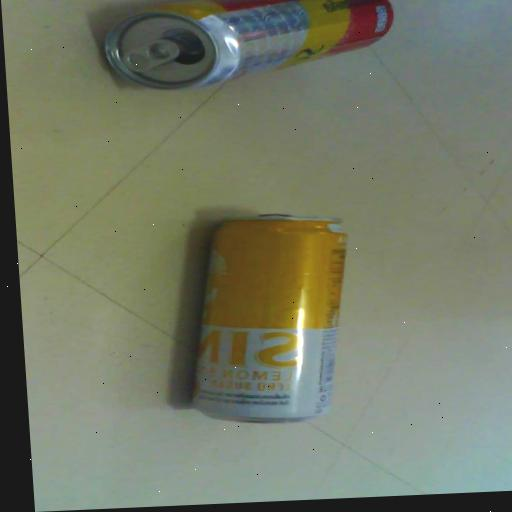canned: (165, 199, 380, 436), (85, 0, 413, 109)
